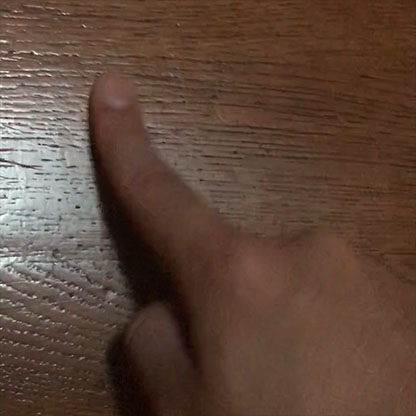fingertip: (70, 59, 164, 132)
